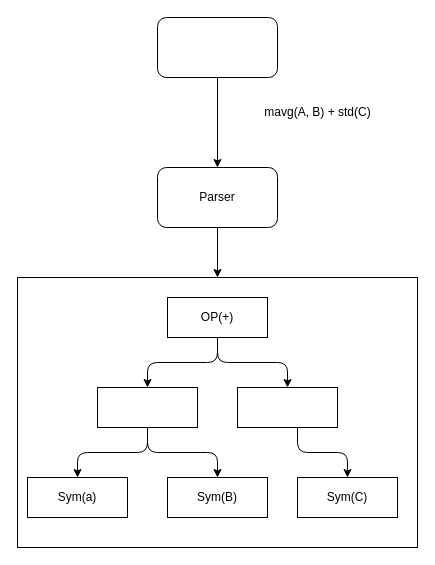
Some shapes in this 435 by 565 pixel diagram are drawn without their labels. Each missing label, with the centre of its shape:
Func(mavg): point (147, 407)
Func(std): point (287, 407)
User: point (217, 47)
